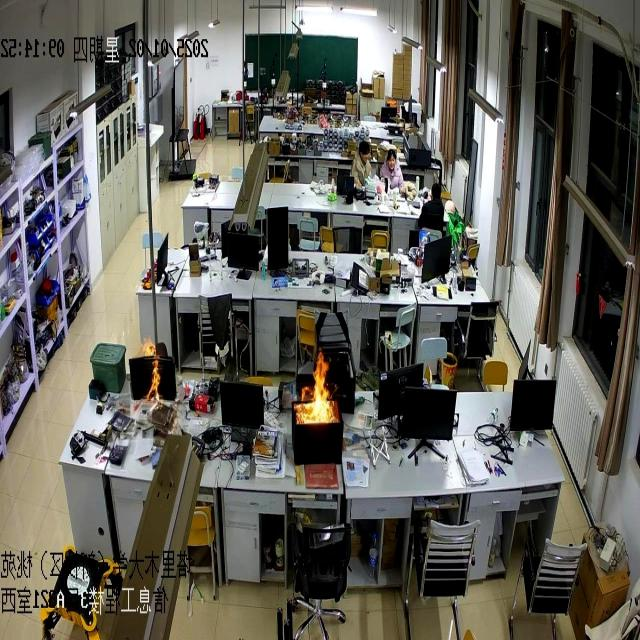fire: (292, 352, 336, 454), (135, 338, 163, 408)
